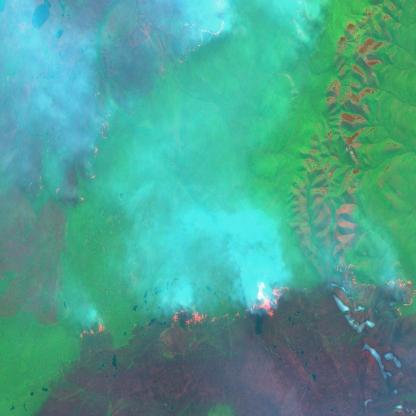fire: (168, 280, 294, 331), (338, 265, 416, 326), (74, 317, 113, 349)
